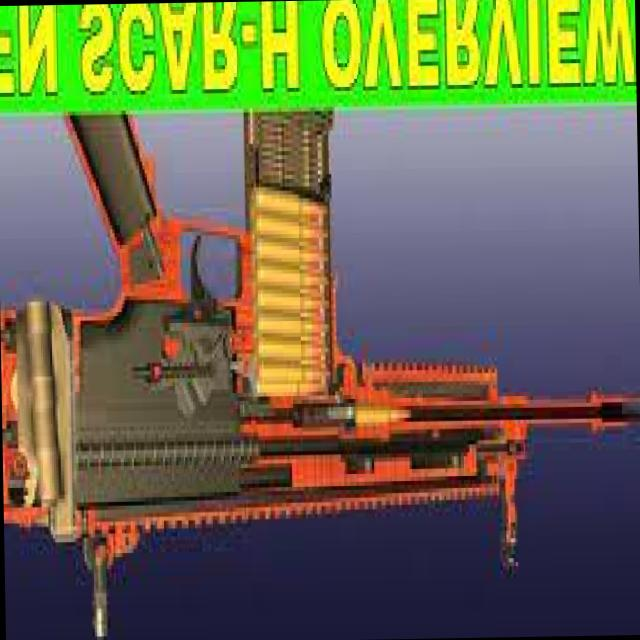Gun: (0, 113, 640, 640)
